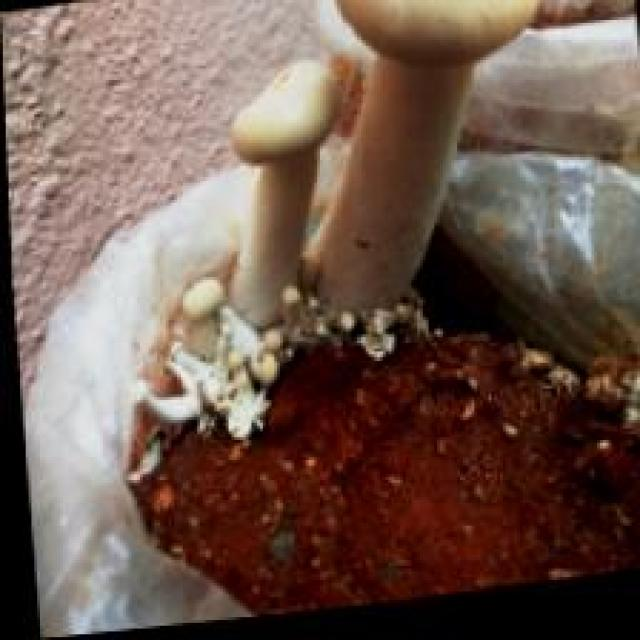field-mushroom: (297, 0, 543, 326)
